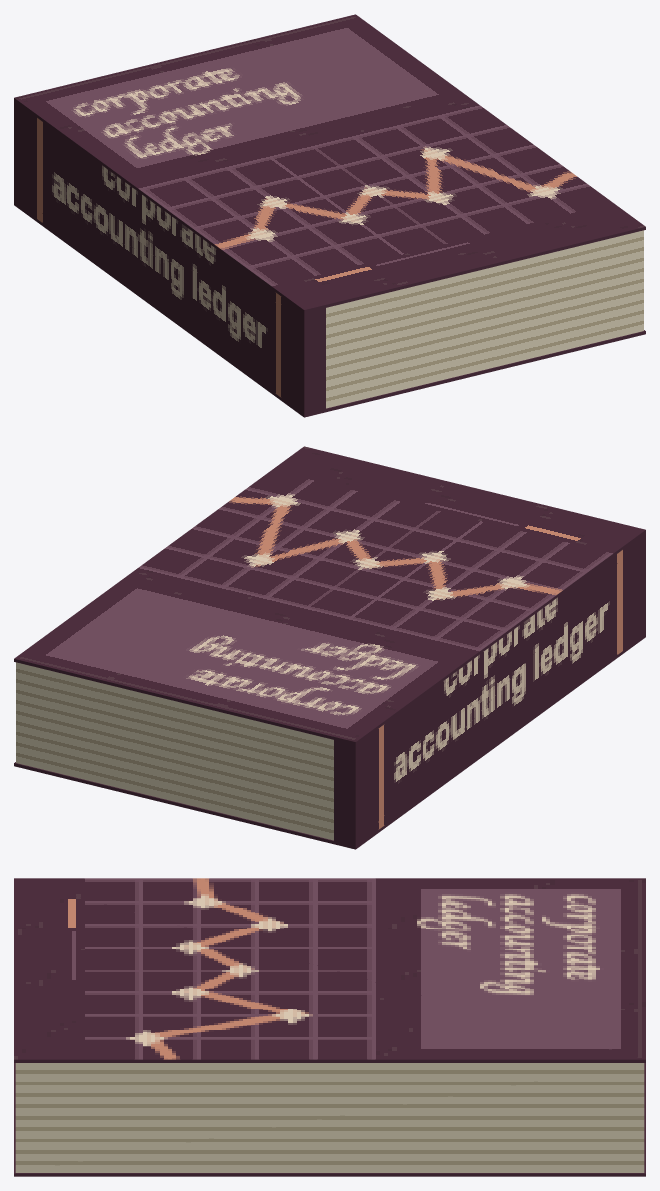
The model's file is record_accounting.glb.
3 renders of one model, top to bottom at view 1: azimuth 30°, elevation 25°; view 2: azimuth 150°, elevation 25°; view 3: azimuth 270°, elevation 25°, orthographic. The views are drawn at different scales.
Visible parts, largest first — view 1: block_front cover, block_page block, block_spine, block_back cover; view 2: block_front cover, block_page block, block_spine, block_back cover; view 3: block_front cover, block_page block, block_back cover.
Part boxes in pixels (box(x1,y1,x2,y2)): block_front cover: box(14, 14, 645, 312); block_page block: box(326, 230, 643, 408); block_spine: box(14, 101, 325, 414); block_back cover: box(14, 202, 645, 417); block_front cover: box(14, 446, 645, 744); block_page block: box(16, 662, 333, 840); block_spine: box(334, 533, 645, 846); block_back cover: box(14, 634, 645, 849); block_front cover: box(14, 878, 645, 1062); block_page block: box(15, 1063, 644, 1172); block_back cover: box(14, 1063, 645, 1176).
Bounding box in the file's own units: 0.1414 × 0.0425 × 0.208.
Materials: 1 (1 with a texture image).
